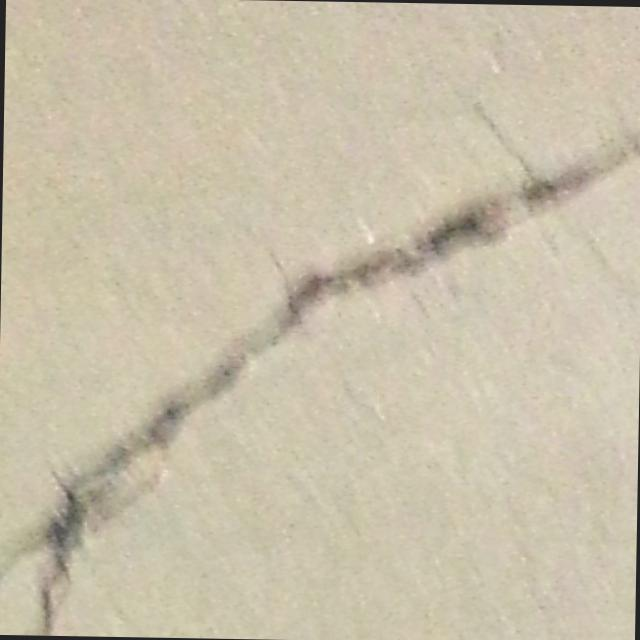crack: (212, 108, 640, 374), (0, 362, 252, 637)
